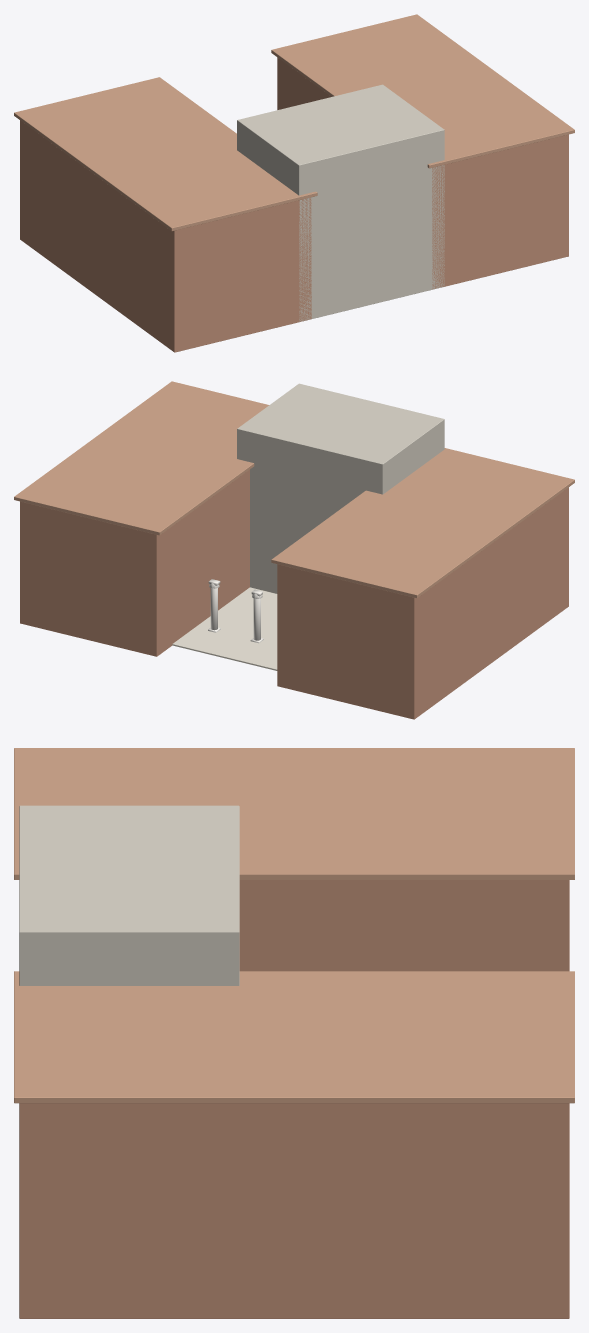
The model's file is palace_block.glb.
3 renders of one model, top to bottom at view 1: azimuth 30°, elevation 25°; view 2: azimuth 150°, elevation 25°; view 3: azimuth 270°, elevation 25°, orthographic. The views are drawn at different scales.
Visible parts, largest first — view 1: merged_romanBrick, merged_roofTile, aula; view 2: merged_romanBrick, merged_roofTile, aula, court_floor, merged_marble; view 3: merged_romanBrick, merged_roofTile, aula.
Boxes of the visible parts, x1,y1,x2,y2 form: merged_romanBrick: [20, 57, 568, 352]; merged_roofTile: [14, 14, 574, 231]; aula: [237, 84, 444, 321]; merged_romanBrick: [20, 469, 568, 719]; merged_roofTile: [14, 381, 574, 598]; aula: [237, 383, 444, 593]; court_floor: [172, 587, 277, 670]; merged_marble: [208, 579, 263, 643]; merged_romanBrick: [19, 880, 569, 1318]; merged_roofTile: [14, 748, 574, 1103]; aula: [19, 805, 239, 985].
Bounding box in the file's own units: 75.2 × 28 × 51.
